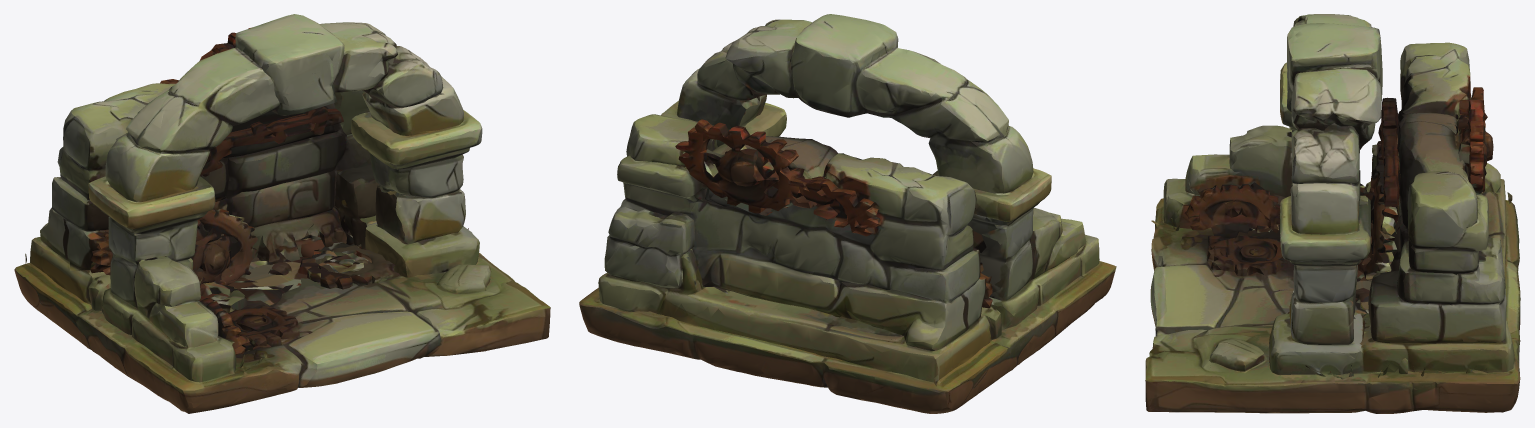
File: construct_den.glb
3 views of the same model, side by side, from view 1: azimuth 30°, elevation 25°; view 2: azimuth 150°, elevation 25°; view 3: azimuth 270°, elevation 25° (orthographic). The views are drawn at different scales.
Parts seen in each view (by area): view 1: construct_den; view 2: construct_den; view 3: construct_den.
Boxes of the visible parts, x1=… form: construct_den: x1=14, y1=14, x2=550, y2=413; construct_den: x1=579, y1=14, x2=1116, y2=413; construct_den: x1=1145, y1=14, x2=1520, y2=413.
Size of the model in its own units: 3 by 2.21 by 2.54.
Materials: 1 (1 with a texture image).
